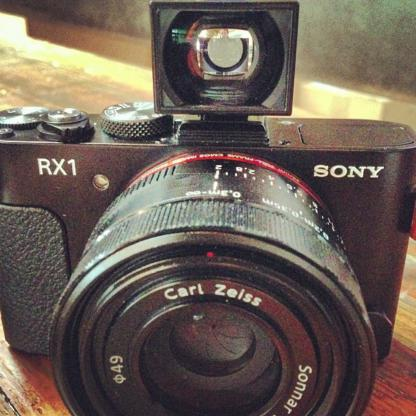Camera: (1, 26, 416, 416)
